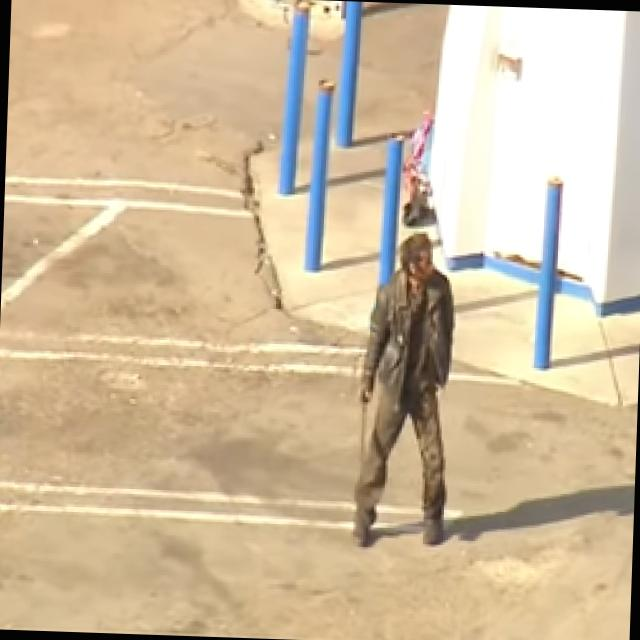person: (347, 228, 458, 550)
